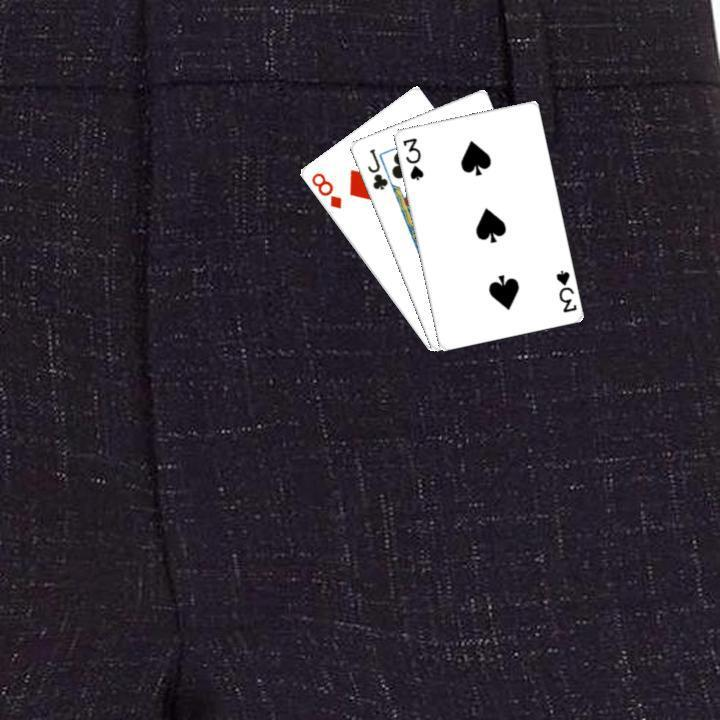3: (398, 133, 425, 182), (551, 266, 578, 314)
8: (306, 168, 343, 211)
J: (362, 144, 390, 192)
